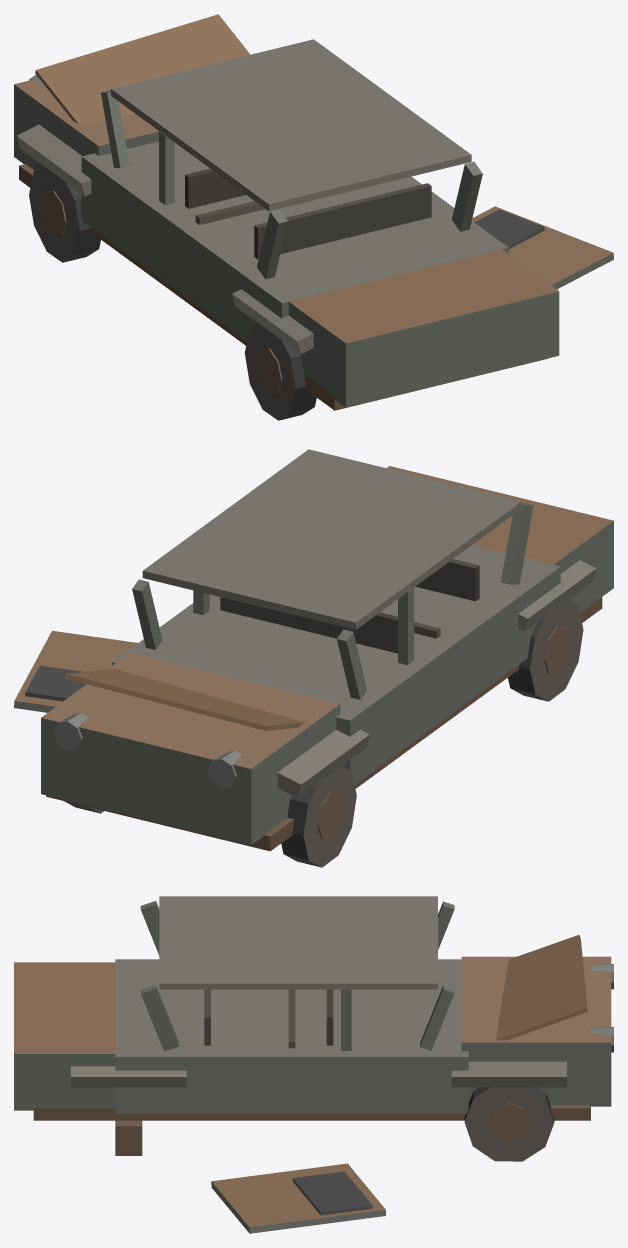
File: pkw_wrack_offen.glb
3 renders of one model, top to bottom at view 1: azimuth 30°, elevation 25°; view 2: azimuth 150°, elevation 25°; view 3: azimuth 270°, elevation 25°, orthographic. The views are drawn at different scales.
Visible parts, largest first — view 1: karosse, tuer; view 2: karosse, tuer; view 3: karosse, tuer.
Part boxes in pixels (x1=…): karosse: x1=14, y1=14, x2=559, y2=420; tuer: x1=472, y1=206, x2=613, y2=289; karosse: x1=41, y1=449, x2=613, y2=867; tuer: x1=14, y1=630, x2=137, y2=712; karosse: x1=14, y1=896, x2=613, y2=1161; tuer: x1=211, y1=1163, x2=385, y2=1233.
Bounding box in the file's own units: 3.13 × 1.4 × 4.41.
